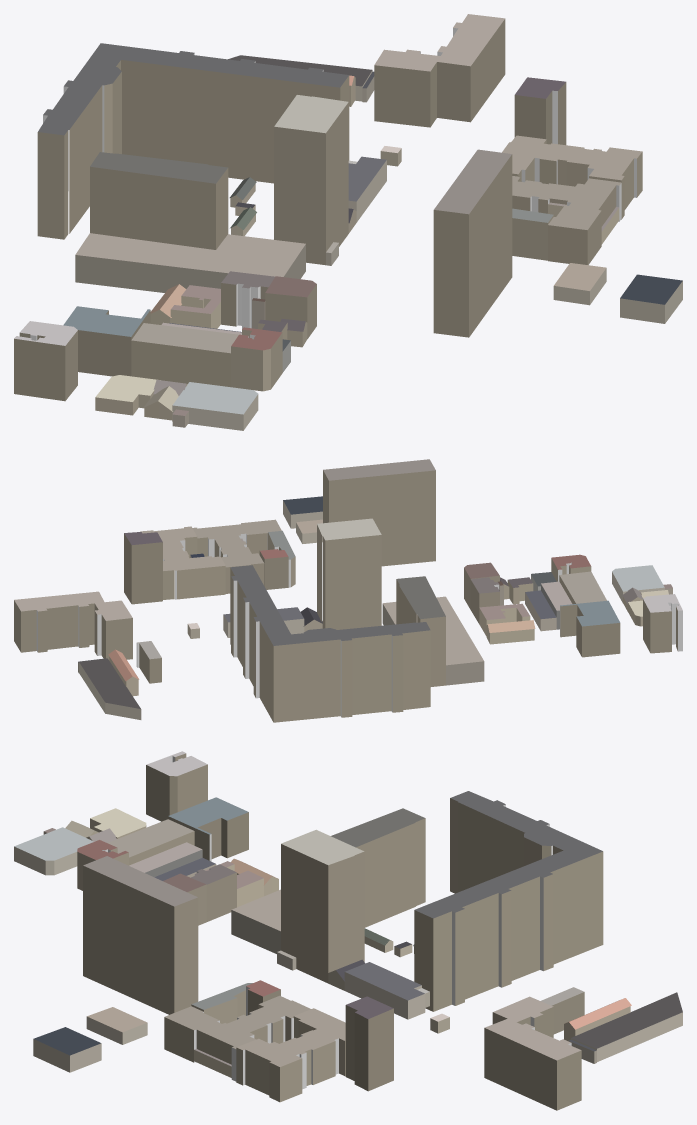
The picture shows the model from 3 angles, top to bottom: view 1: azimuth 30°, elevation 25°; view 2: azimuth 150°, elevation 25°; view 3: azimuth 270°, elevation 25°; orthographic projection. The views are drawn at different scales.
Visible parts, largest first — view 1: tuile; view 2: tuile; view 3: tuile.
Boxes of the visible parts, x1,y1,x2,y2 form: tuile: (14,14,682,430); tuile: (14,459,682,722); tuile: (14,751,682,1110).
Size of the model in its own units: 277 by 52.45 by 256.
